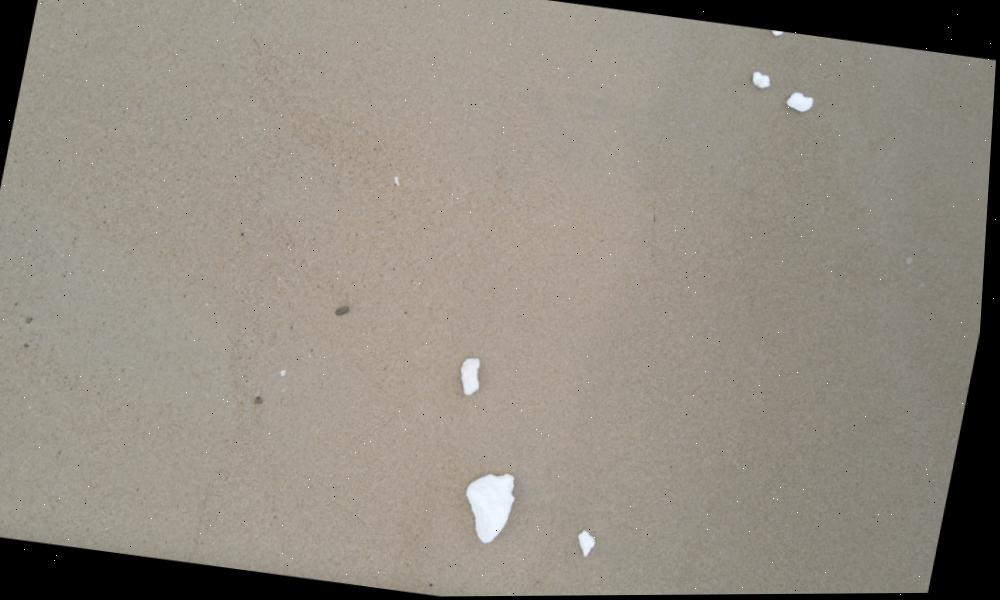styrofoam: (462, 465, 528, 548), (459, 354, 492, 400), (785, 88, 818, 116), (580, 528, 604, 560), (750, 68, 774, 92), (767, 30, 785, 39)
